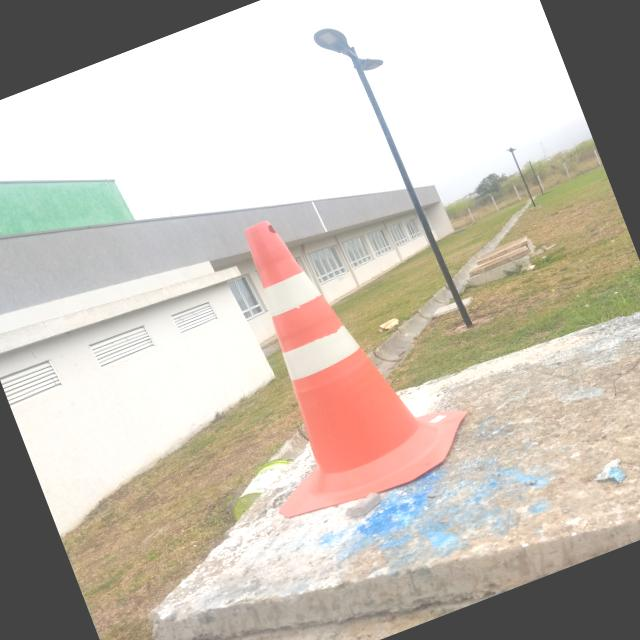cone: (178, 172, 481, 528)
